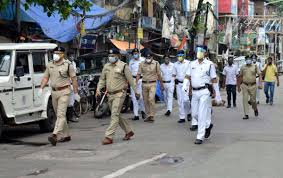mask: (50, 46, 63, 64), (194, 42, 206, 60), (106, 51, 116, 64), (145, 52, 152, 65), (244, 56, 253, 66), (175, 52, 183, 63), (132, 50, 139, 59), (162, 55, 168, 63), (228, 56, 233, 65), (267, 58, 272, 66)
